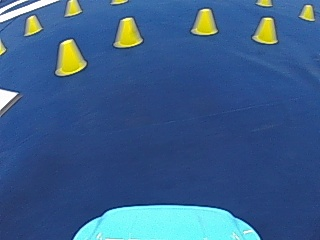cone: (54, 37, 86, 75), (112, 16, 143, 48), (190, 8, 218, 35), (252, 16, 278, 44), (24, 15, 42, 35), (64, 0, 81, 16), (299, 4, 314, 21)
